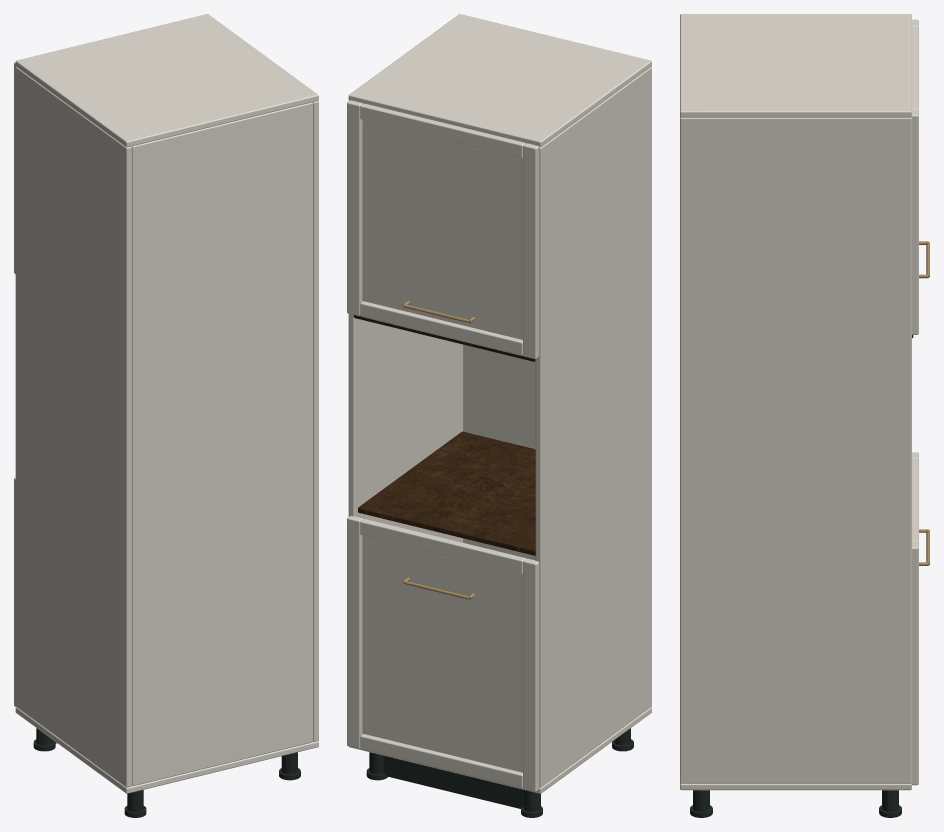
File: cabinet-oven-tower.glb
The picture shows the model from 3 angles, left to right: view 1: azimuth 30°, elevation 25°; view 2: azimuth 150°, elevation 25°; view 3: azimuth 270°, elevation 25°; orthographic projection. The views are drawn at different scales.
Visible parts, largest first — view 1: cream_surfaces, dark_surfaces; view 2: cream_surfaces, oak_surfaces, dark_surfaces, bronze_surfaces, walnut_surfaces; view 3: cream_surfaces, dark_surfaces.
Part boxes in pixels (x1,y1,x2,y2): cream_surfaces: [14, 14, 318, 793]; dark_surfaces: [33, 728, 300, 817]; cream_surfaces: [347, 14, 651, 793]; oak_surfaces: [358, 431, 535, 555]; dark_surfaces: [366, 728, 633, 817]; bronze_surfaces: [402, 301, 475, 599]; walnut_surfaces: [353, 315, 535, 361]; cream_surfaces: [680, 14, 918, 790]; dark_surfaces: [690, 790, 901, 817].
Bounding box in the file's own units: 0.6499 × 2.2 × 0.7004.
6 materials, 2 textured.
